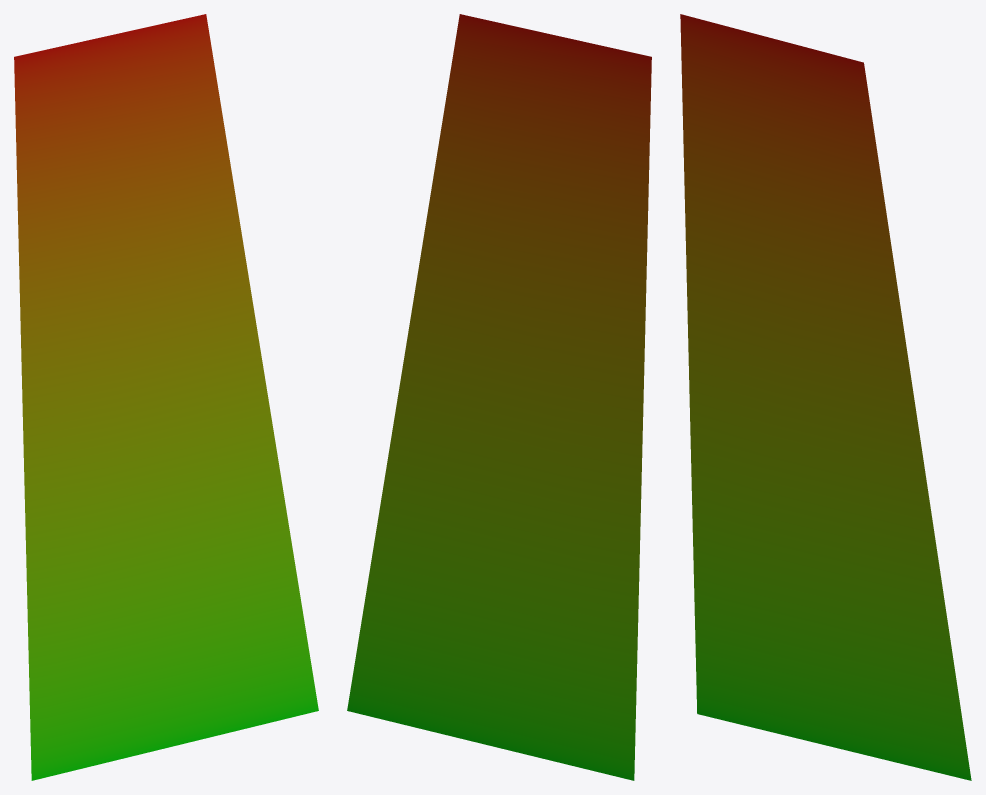
Rendered from Sunflower_LOD3_Var5.fbx.
3 renders of one model, left to right at view 1: azimuth 30°, elevation 25°; view 2: azimuth 150°, elevation 25°; view 3: azimuth 330°, elevation 25°, orthographic. The views are drawn at different scales.
Parts seen in each view (by area): view 1: _7894_Var5_LOD3; view 2: _7894_Var5_LOD3; view 3: _7894_Var5_LOD3.
Part boxes in pixels (x1,y1,x2,y2): _7894_Var5_LOD3: [14, 14, 318, 780]; _7894_Var5_LOD3: [347, 14, 651, 780]; _7894_Var5_LOD3: [680, 14, 971, 780].
Size of the model in its own units: 55.74 by 127 by 2.42e-05.
